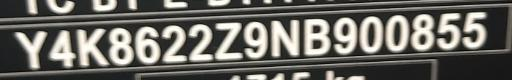letter: (9, 28, 49, 69), (268, 16, 302, 58), (74, 26, 110, 65), (212, 21, 244, 61), (46, 28, 78, 68), (184, 21, 216, 60), (302, 18, 332, 57), (132, 24, 162, 63), (105, 26, 135, 65), (434, 10, 462, 50), (460, 10, 488, 49), (357, 15, 385, 54), (242, 20, 270, 59), (160, 23, 188, 62), (410, 13, 436, 52), (332, 16, 358, 55), (384, 13, 410, 51)
